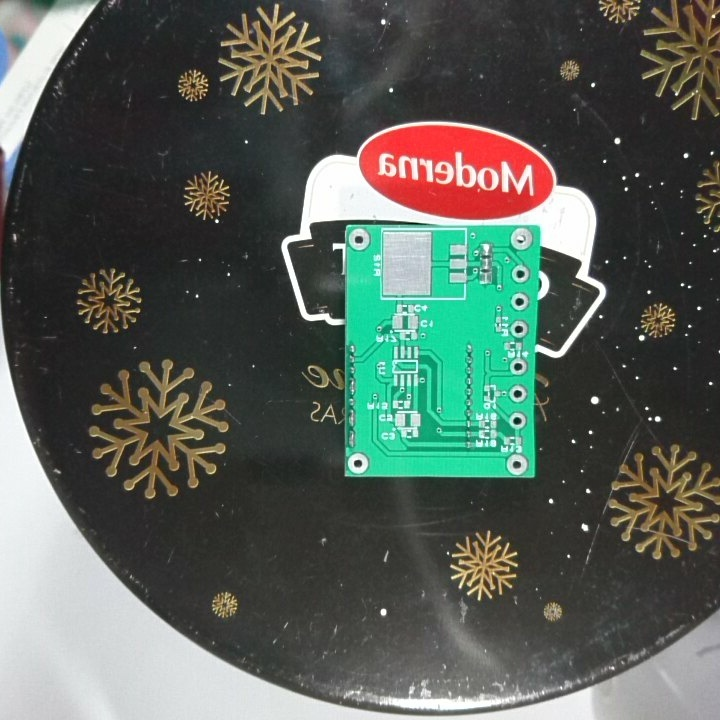F: (347, 226, 372, 253), (509, 226, 534, 252), (348, 451, 373, 476), (504, 452, 530, 475), (507, 290, 531, 313), (508, 264, 532, 286), (508, 356, 531, 378), (508, 409, 529, 432), (508, 318, 529, 340), (507, 383, 529, 403)
P: (345, 407, 359, 427), (346, 428, 358, 450), (346, 376, 358, 398)
